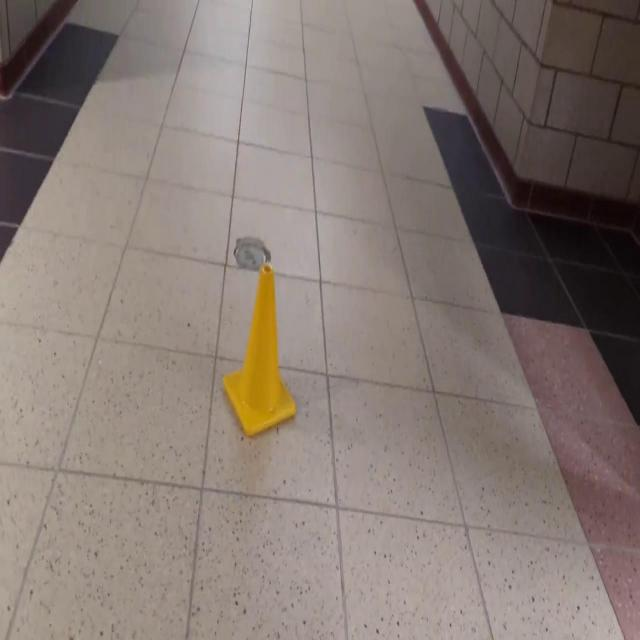frc_cone: (220, 261, 298, 439)
